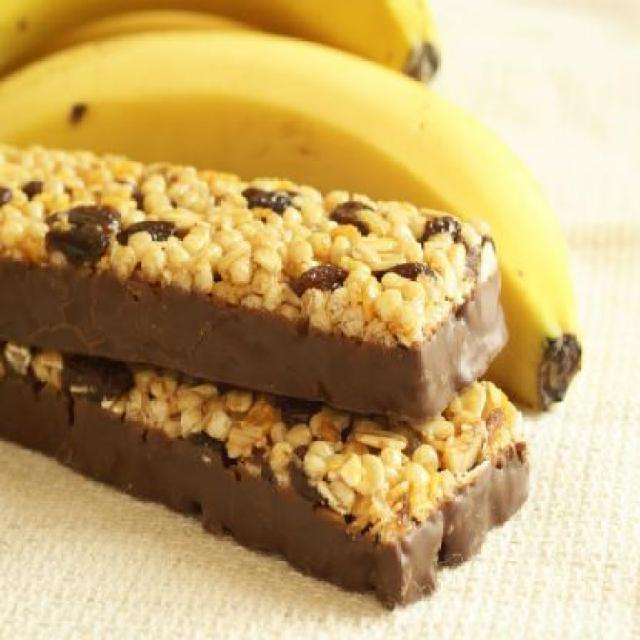Cereal bar packaged: (1, 313, 530, 604), (1, 146, 514, 422)
